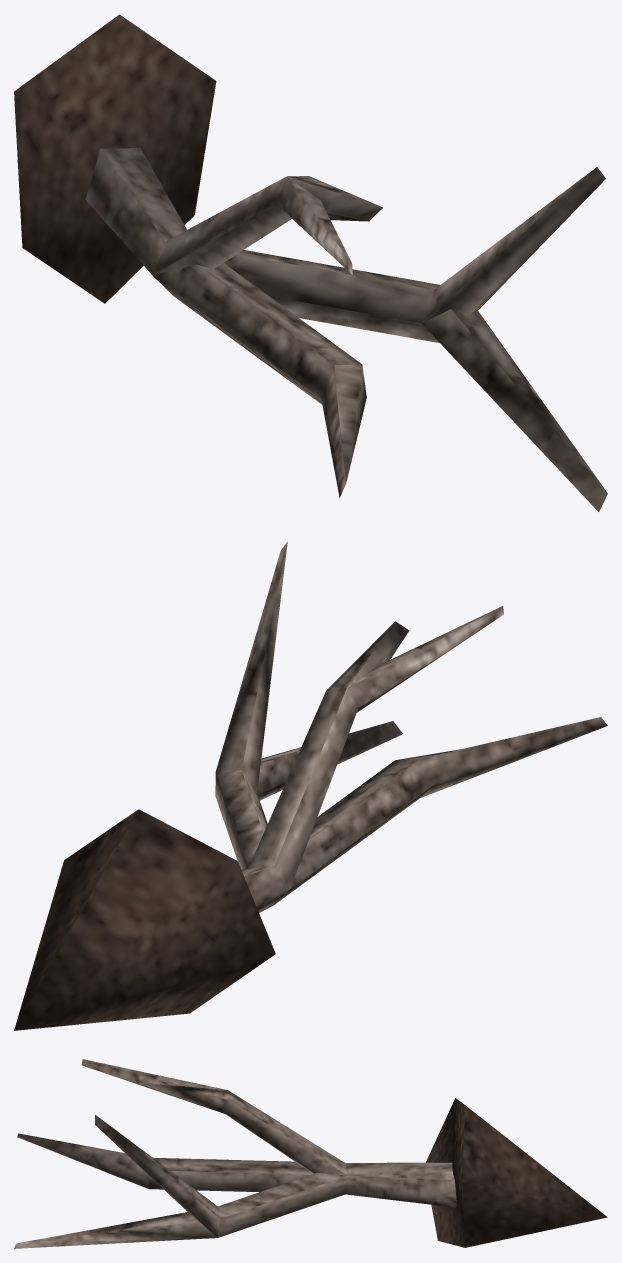
Rendered from fallentree_1.obj.
3 views of the same model, one above another, from view 1: azimuth 30°, elevation 25°; view 2: azimuth 150°, elevation 25°; view 3: azimuth 270°, elevation 25° (orthographic). The views are drawn at different scales.
Visible parts, largest first — view 1: fallentree_1; view 2: fallentree_1; view 3: fallentree_1.
Boxes of the visible parts, x1,y1,x2,y2 form: fallentree_1: [14, 14, 607, 511]; fallentree_1: [14, 542, 607, 1030]; fallentree_1: [14, 1059, 607, 1248].
Bounding box in the file's own units: 3.45 × 3.1 × 9.45.
